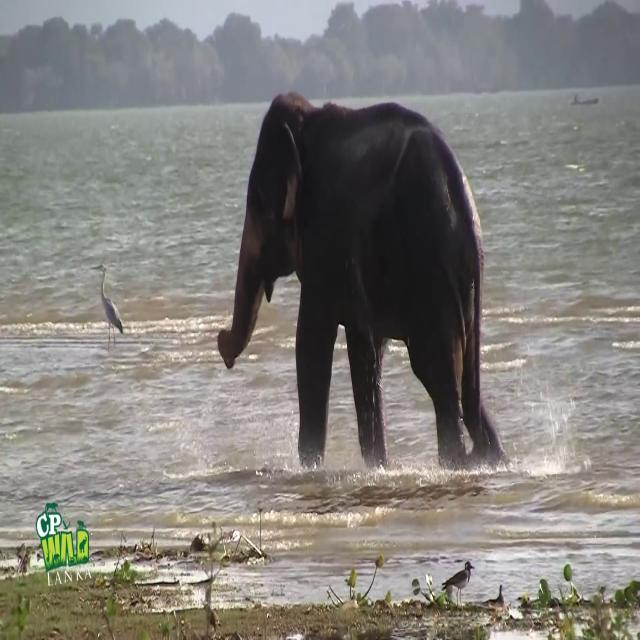Elephant: (217, 90, 506, 474)
